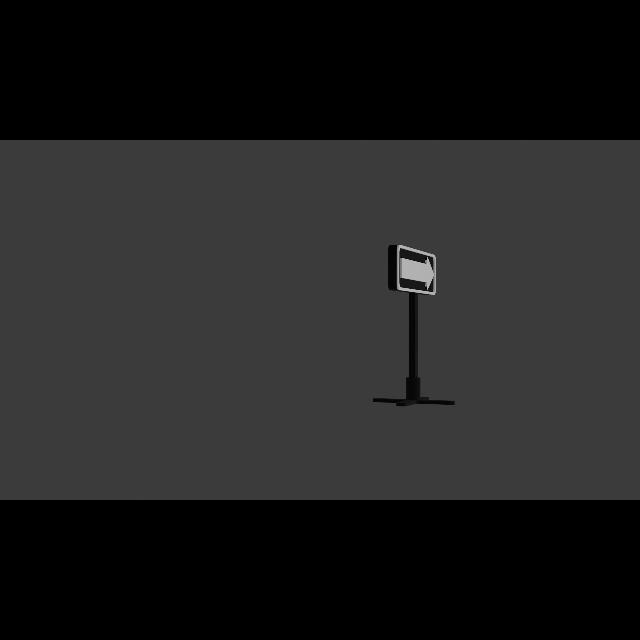sign_oneway_right: (388, 244, 439, 297)
